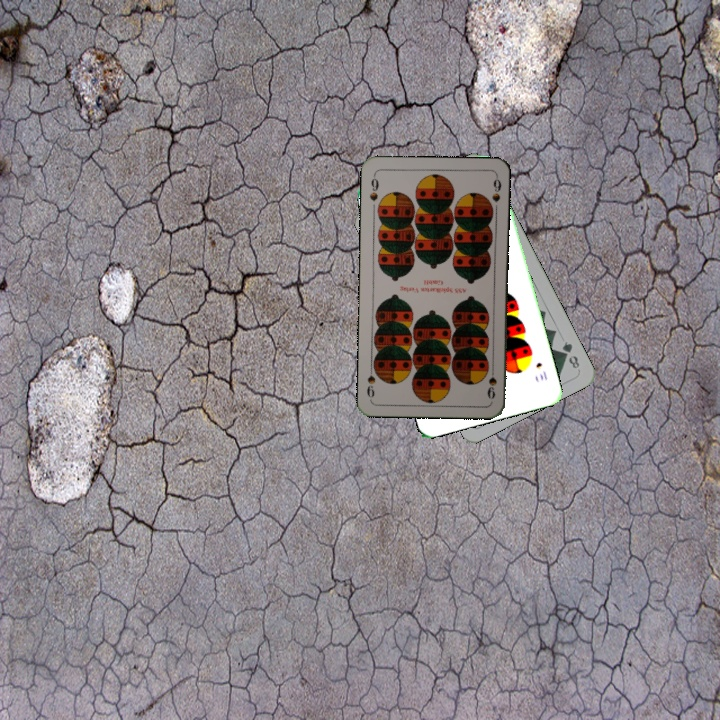G8: (558, 337, 582, 371)
S10: (532, 358, 550, 383)
S9: (483, 362, 499, 402), (366, 171, 381, 204)
